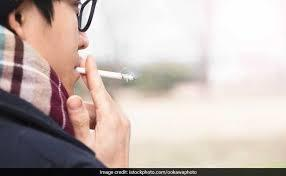smoke: (73, 65, 136, 81)
